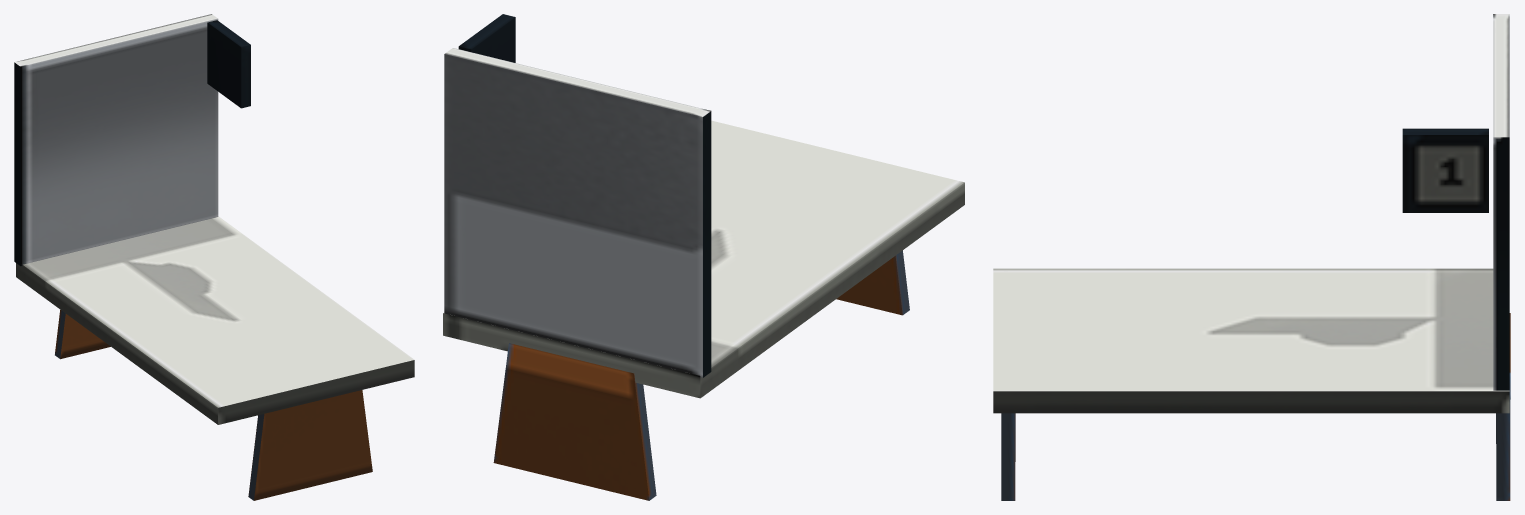
File: Tx_prop_table_2.fbx
The picture shows the model from 3 angles, left to right: view 1: azimuth 30°, elevation 25°; view 2: azimuth 150°, elevation 25°; view 3: azimuth 270°, elevation 25°; orthographic projection. The views are drawn at different scales.
Visible parts, largest first — view 1: polySurface4, polySurface3, polySurface33, polySurface45, polySurface44; view 2: polySurface3, polySurface4, polySurface44, polySurface33, polySurface45; view 3: polySurface4, polySurface45, polySurface3, polySurface44, polySurface33.
Boxes of the visible parts, x1,y1,x2,y2 form: polySurface4: [16, 216, 414, 424]; polySurface3: [14, 14, 218, 266]; polySurface33: [248, 390, 372, 500]; polySurface45: [207, 20, 250, 108]; polySurface44: [55, 310, 110, 359]; polySurface3: [444, 48, 711, 377]; polySurface4: [443, 120, 964, 398]; polySurface44: [493, 343, 656, 500]; polySurface33: [836, 250, 909, 315]; polySurface45: [458, 14, 515, 62]; polySurface4: [993, 268, 1509, 413]; polySurface45: [1402, 128, 1488, 212]; polySurface3: [1493, 14, 1509, 390]; polySurface44: [1496, 313, 1510, 500]; polySurface33: [1001, 413, 1015, 500].
Bounding box in the file's own units: 5.78 × 8.44 × 10.19.
